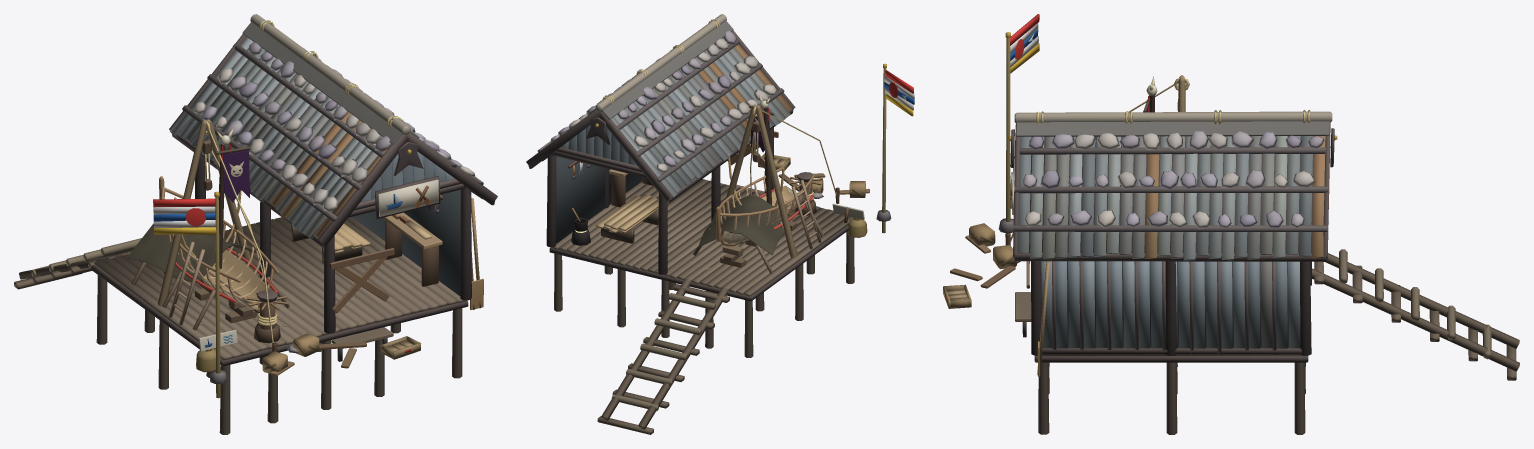
The model's file is zv-tidepool-boatwright.glb.
3 views of the same model, side by side, from view 1: azimuth 30°, elevation 25°; view 2: azimuth 150°, elevation 25°; view 3: azimuth 270°, elevation 25° (orthographic). The views are drawn at different scales.
Visible parts, largest first — view 1: zv-tidepool-boatwright, siege, saved; view 2: zv-tidepool-boatwright, siege, saved; view 3: zv-tidepool-boatwright, saved, siege.
Boxes of the visible parts, bbox=[...] form: zv-tidepool-boatwright: bbox=[14, 14, 497, 434]; siege: bbox=[126, 129, 394, 376]; saved: bbox=[153, 191, 421, 398]; zv-tidepool-boatwright: bbox=[526, 14, 867, 434]; siege: bbox=[698, 95, 869, 255]; saved: bbox=[758, 63, 914, 233]; zv-tidepool-boatwright: bbox=[1005, 75, 1519, 434]; saved: bbox=[943, 14, 1039, 308]; siege: bbox=[950, 76, 1157, 288].
Bounding box in the file's own units: 6.3 × 5.41 × 9.01.
